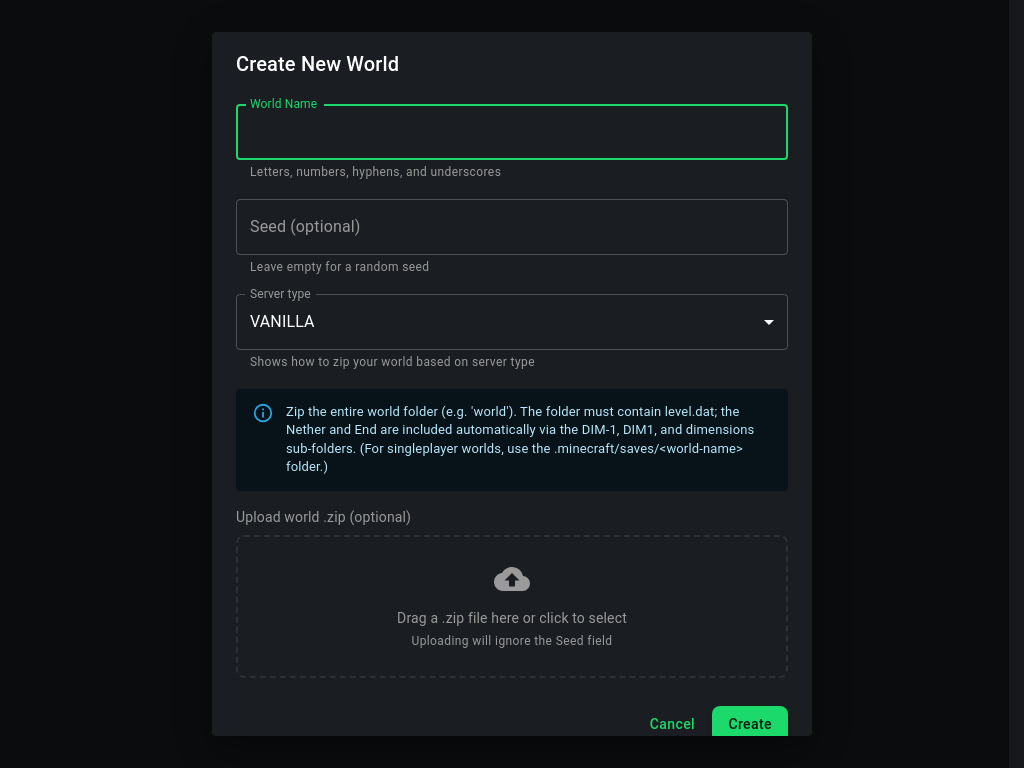
CreateWorldDialog › shows single-folder guidance with mod suffix for FORGE
Press the mouse on the dropdown named "server type" at x=282, y=322, box [250, 312, 315, 331]
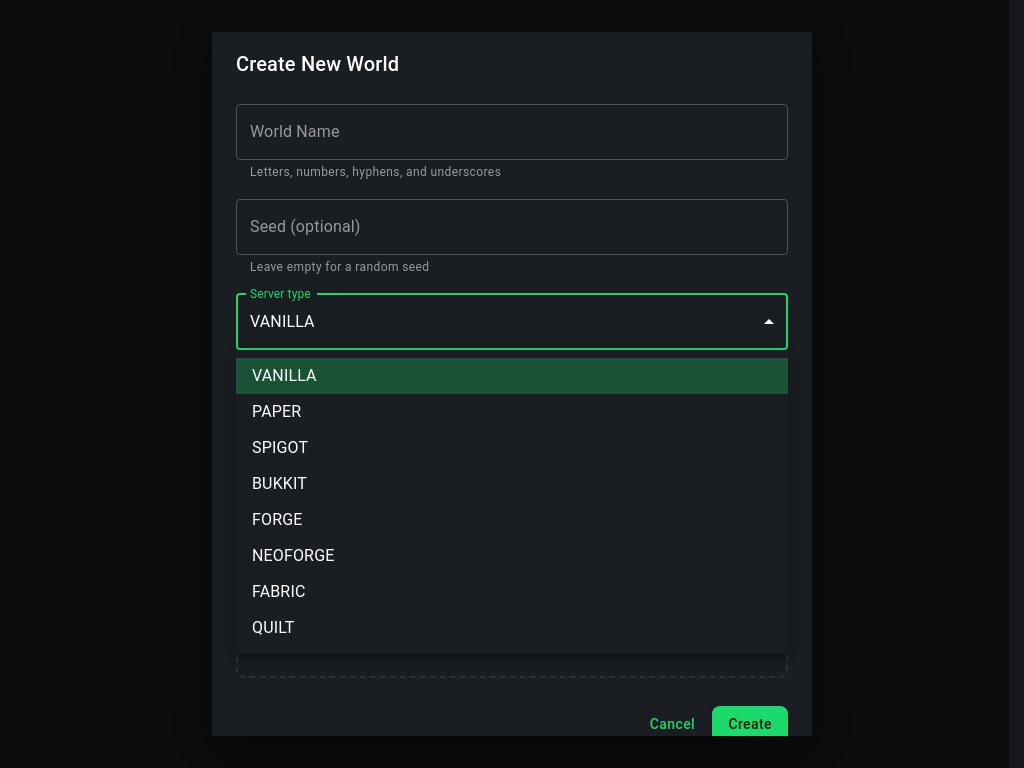
Click the option "FORGE".
click(277, 520)  # box [252, 510, 302, 529]
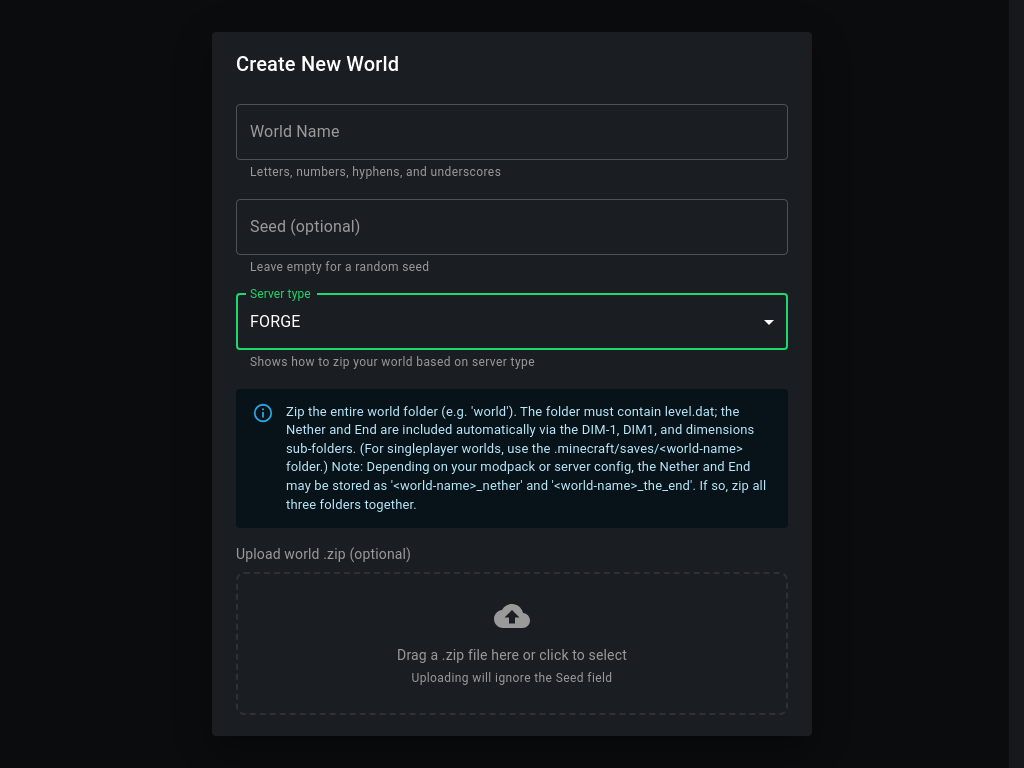
Now the text "depending on your modpack" is shown, box [286, 404, 766, 512]
